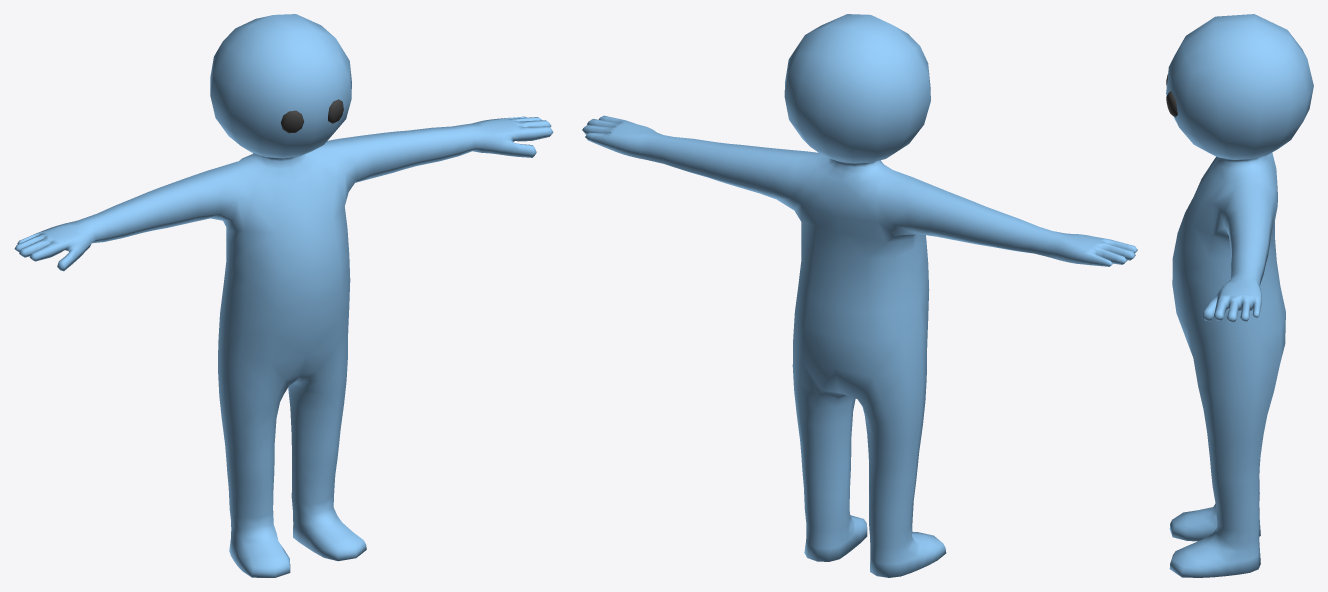
Rendered from Body_Blue_003.glb.
3 renders of one model, left to right at view 1: azimuth 30°, elevation 25°; view 2: azimuth 150°, elevation 25°; view 3: azimuth 270°, elevation 25°, orthographic. The views are drawn at different scales.
Parts seen in each view (by area): view 1: Body_Blue_003; view 2: Body_Blue_003; view 3: Body_Blue_003.
Part boxes in pixels (x1,y1,x2,y2): Body_Blue_003: (14, 14, 553, 577); Body_Blue_003: (582, 14, 1137, 577); Body_Blue_003: (1166, 14, 1313, 577).
Size of the model in its own units: 1.82 by 1.71 by 0.4335.
1 material, 1 textured.
